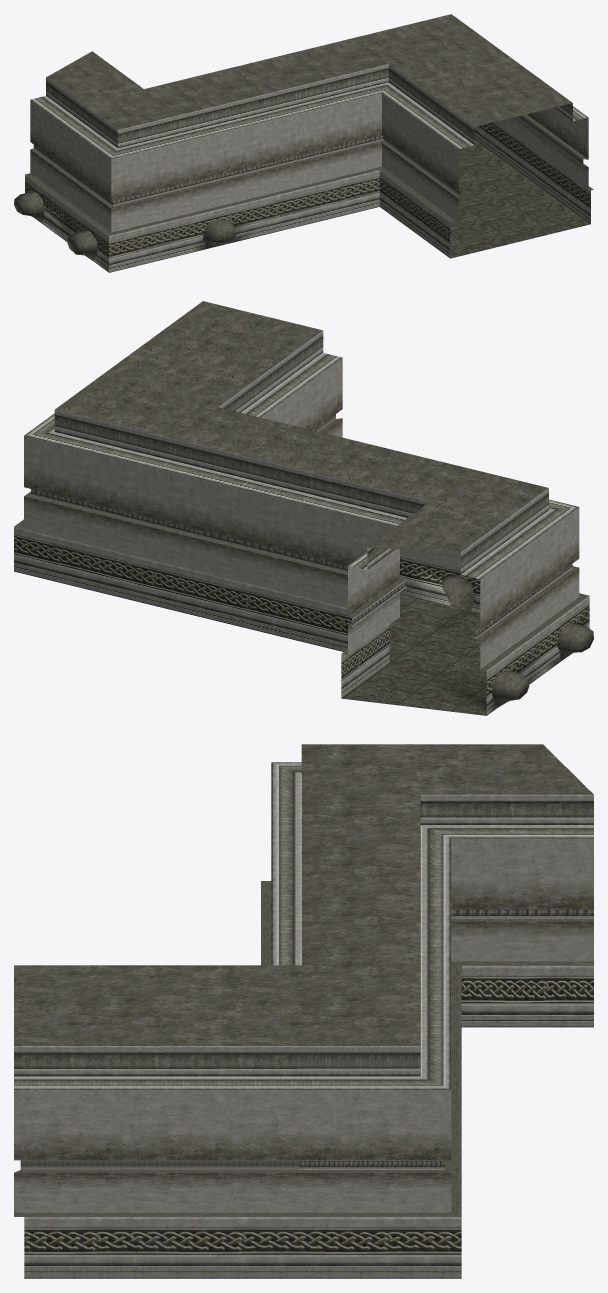
File: DWARF_PALACE_FORGE_HALLWAY02B.fbx
3 renders of one model, top to bottom at view 1: azimuth 30°, elevation 25°; view 2: azimuth 150°, elevation 25°; view 3: azimuth 270°, elevation 25°, orthographic. The views are drawn at different scales.
Visible parts, largest first — view 1: DWARF_PALACE_FORGE_HALLWAY02B; view 2: DWARF_PALACE_FORGE_HALLWAY02B; view 3: DWARF_PALACE_FORGE_HALLWAY02B.
Part boxes in pixels (<box>): DWARF_PALACE_FORGE_HALLWAY02B: <box>14,14,593,272</box>; DWARF_PALACE_FORGE_HALLWAY02B: <box>14,301,593,715</box>; DWARF_PALACE_FORGE_HALLWAY02B: <box>14,744,593,1278</box>.
Bounding box in the file's own units: 243978 × 70000 × 170721.
Materials: 7 (7 with a texture image).
